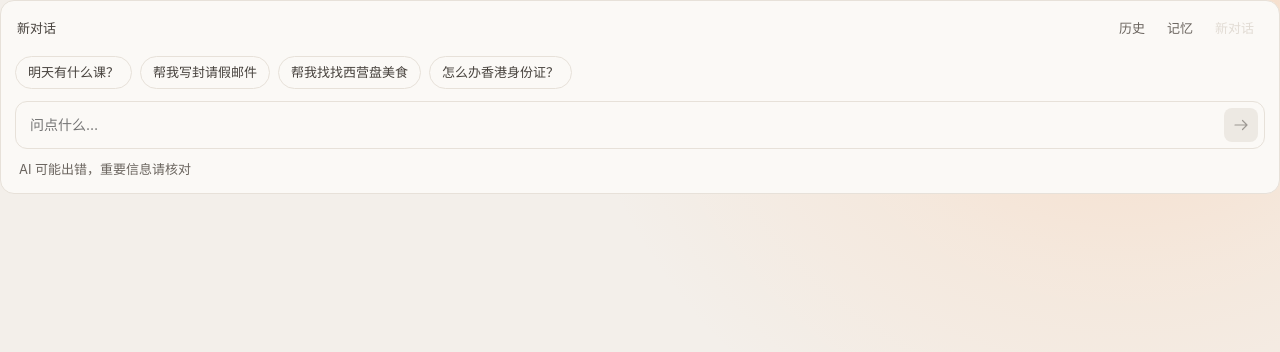
memory panel lists, forgets and clears what the AI remembers
This screenshot has width=1280, height=352.
Click the button "记忆". click: (1180, 28)
box: [1158,15,1202,42]
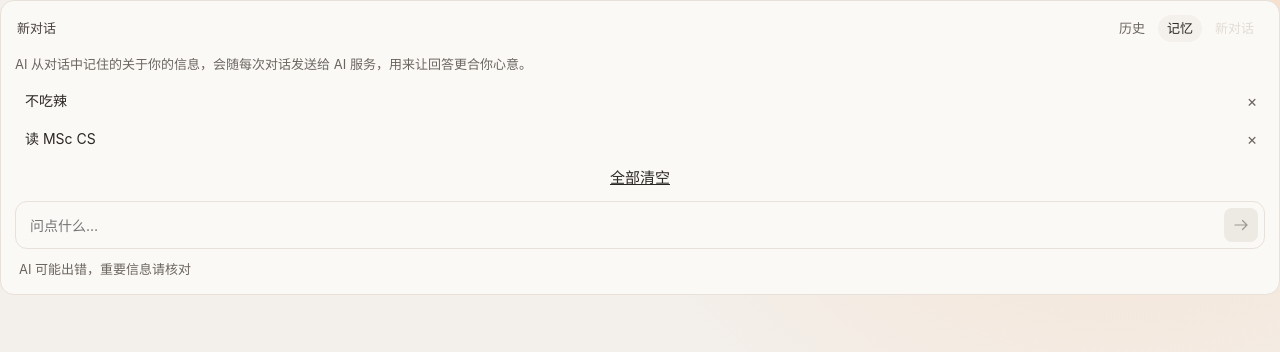
Expected: the text "AI 从对话中记住的关于你的信息，会随每次对话发送给 AI 服务，用来让回答更合你心意。" is shown, [15,56,532,72]
Click the button named "忘掉 不吃辣". click: (1252, 101)
box: [1239,88,1265,114]
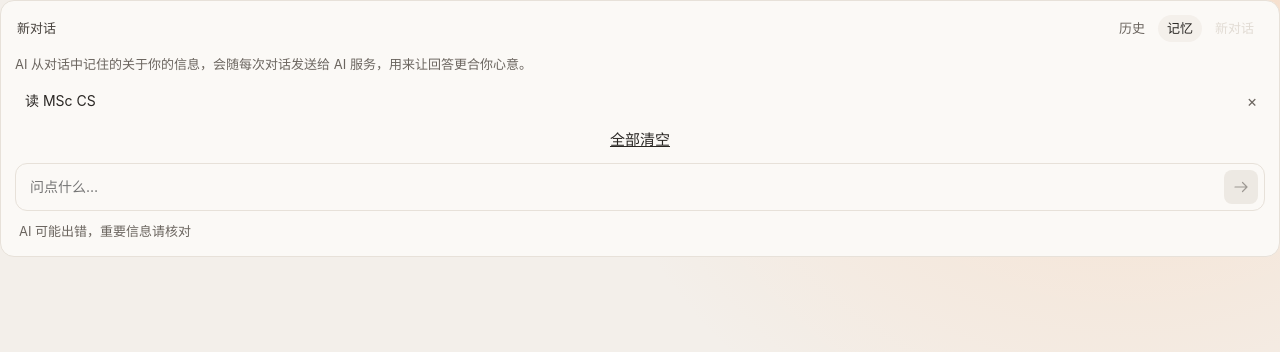
Expected: the text "不吃辣" is gone
Click the button "全部清空". click: (640, 140)
box: [15,127,1265,153]
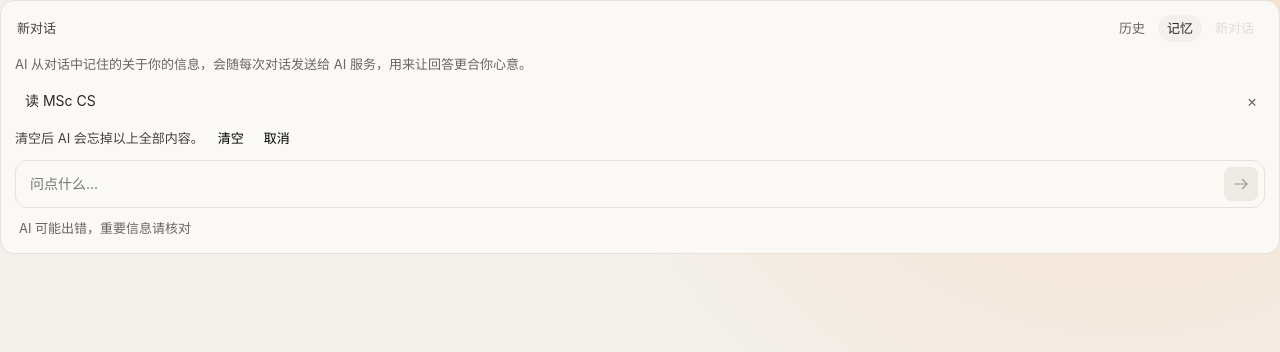
Click the button "清空". click: (231, 138)
box: [212,127,250,150]
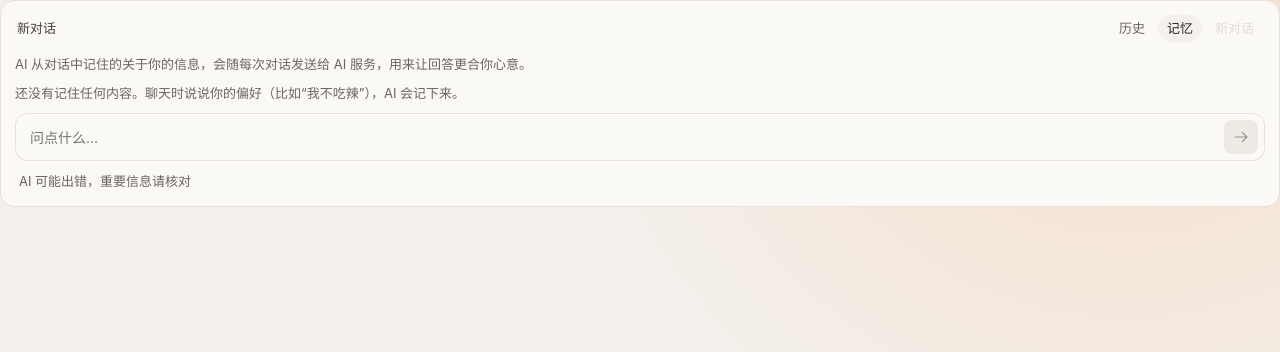
Expected: the text "还没有记住任何内容。聊天时说说你的偏好（比如“我不吃辣”），AI 会记下来。" is shown, [15,85,465,101]
